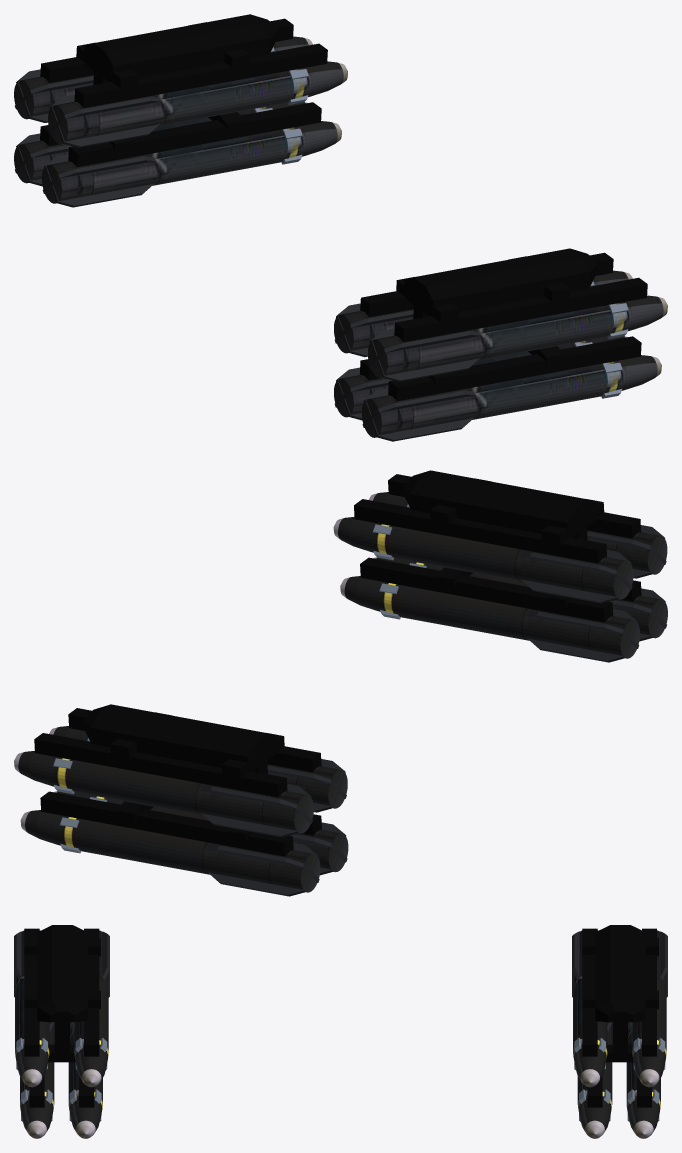
The model's file is uh60lagm11423.glb.
3 renders of one model, top to bottom at view 1: azimuth 30°, elevation 25°; view 2: azimuth 150°, elevation 25°; view 3: azimuth 270°, elevation 25°, orthographic. The views are drawn at different scales.
Parts seen in each view (by area): view 1: 立方体.002, 立方体.003, 円柱.019, 円柱.015, 円柱.016, 円柱.012, 円柱.017, 円柱.013, 円柱.014, 円柱.018; view 2: 立方体.002, 立方体.003, 円柱.014, 円柱.018, 円柱.013, 円柱.017, 円柱.016, 円柱.012, 円柱.015, 円柱.019; view 3: 立方体.003, 立方体.002, 円柱.016, 円柱.012, 円柱.017, 円柱.013, 円柱.015, 円柱.019, 円柱.018, 円柱.014.
Part boxes in pixels (<box>): 立方体.002: <box>40,14,327,167</box>; 立方体.003: <box>359,248,647,401</box>; 円柱.019: <box>361,355,661,441</box>; 円柱.015: <box>42,121,341,207</box>; 円柱.016: <box>368,295,667,381</box>; 円柱.012: <box>48,61,347,147</box>; 円柱.017: <box>334,270,632,357</box>; 円柱.013: <box>14,36,312,122</box>; 円柱.014: <box>14,102,307,186</box>; 円柱.018: <box>334,336,627,420</box>; 立方体.002: <box>34,704,321,856</box>; 立方体.003: <box>354,470,641,622</box>; 円柱.014: <box>20,810,320,896</box>; 円柱.018: <box>340,576,639,662</box>; 円柱.013: <box>14,750,313,837</box>; 円柱.017: <box>333,517,633,603</box>; 円柱.016: <box>369,492,667,578</box>; 円柱.012: <box>49,726,347,812</box>; 円柱.015: <box>54,791,348,875</box>; 円柱.019: <box>373,557,667,641</box>; 立方体.003: <box>24,925,100,1107</box>; 立方体.002: <box>582,925,658,1107</box>; 円柱.016: <box>14,930,49,1087</box>; 円柱.012: <box>572,930,607,1087</box>; 円柱.017: <box>74,930,109,1087</box>; 円柱.013: <box>632,930,667,1087</box>; 円柱.015: <box>577,1022,612,1138</box>; 円柱.019: <box>20,1022,54,1138</box>; 円柱.018: <box>68,1022,102,1138</box>; 円柱.014: <box>626,1022,660,1138</box>.
Bounding box in the file's own units: 1.95 × 0.9008 × 4.29.
Materials: 4 (1 with a texture image).
